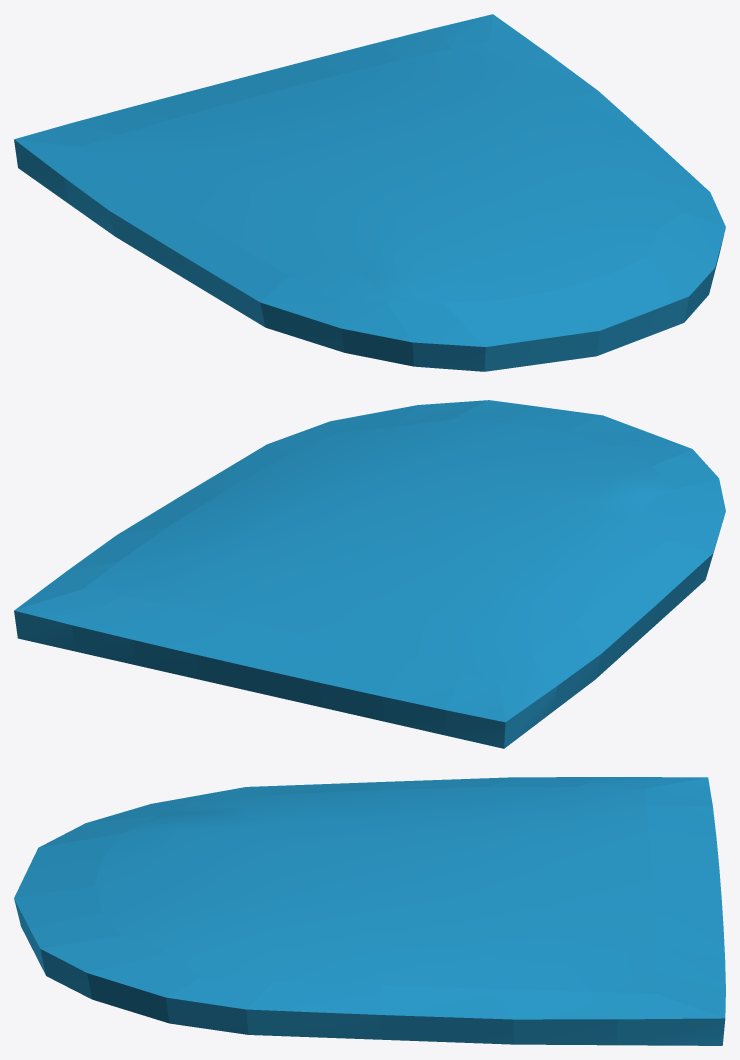
Rendered from banTapa.obj.
The picture shows the model from 3 angles, top to bottom: view 1: azimuth 30°, elevation 25°; view 2: azimuth 150°, elevation 25°; view 3: azimuth 270°, elevation 25°; orthographic projection. The views are drawn at different scales.
Parts seen in each view (by area): view 1: tapa; view 2: tapa; view 3: tapa.
Boxes of the visible parts, x1,y1,x2,y2 form: tapa: (14, 14, 725, 371); tapa: (14, 400, 725, 748); tapa: (14, 777, 725, 1045).
Size of the model in its own units: 17.01 by 1.88 by 21.12.
Materials: 1 (1 with a texture image).
